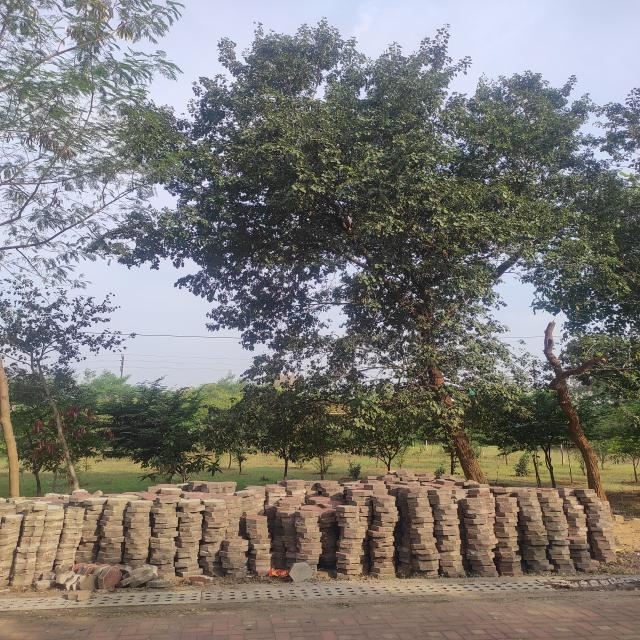Devakanchan tree: (132, 33, 640, 356)
